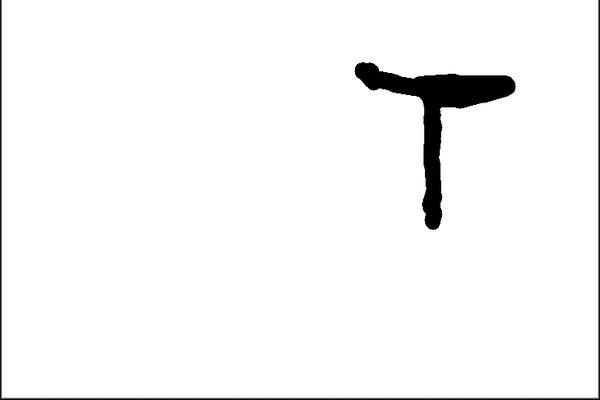T: (349, 54, 521, 228)
